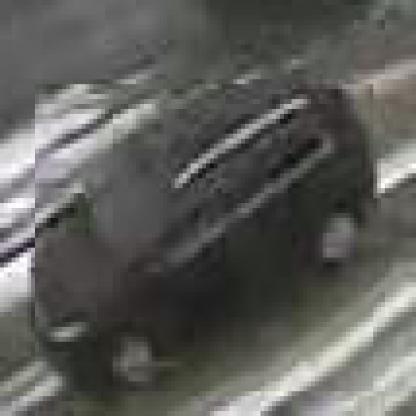car: (32, 85, 374, 397)
